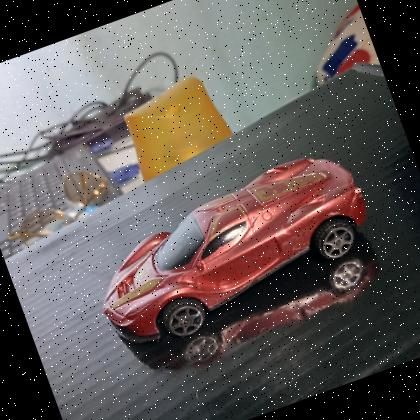Car: (72, 137, 395, 365)
